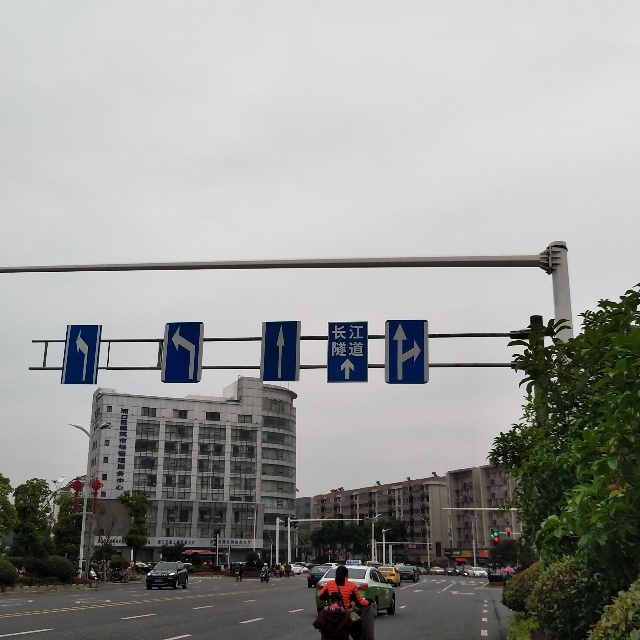left: (160, 325, 202, 384), (71, 323, 91, 383)
straight: (267, 320, 295, 372)
